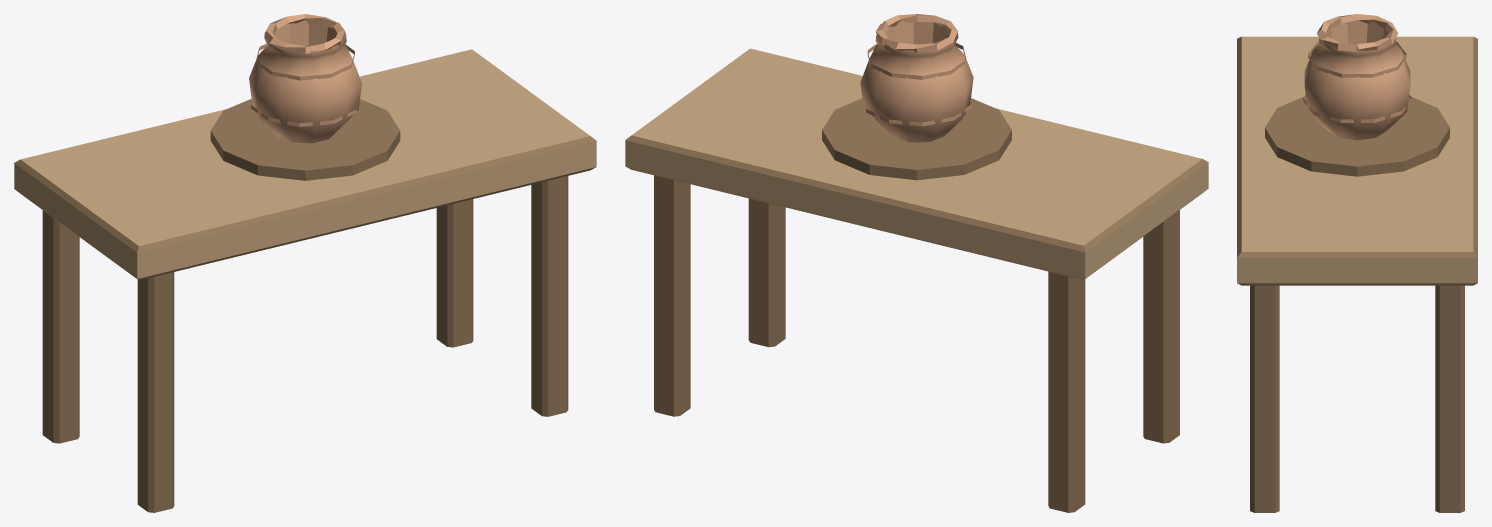
File: pottery_wheel_idle.glb
3 renders of one model, left to right at view 1: azimuth 30°, elevation 25°; view 2: azimuth 150°, elevation 25°; view 3: azimuth 270°, elevation 25°, orthographic. The views are drawn at different scales.
Parts seen in each view (by area): view 1: pottery_wheel_idle; view 2: pottery_wheel_idle; view 3: pottery_wheel_idle.
Part boxes in pixels (box(x1,y1,x2,y2)): pottery_wheel_idle: box(14, 14, 596, 512); pottery_wheel_idle: box(625, 14, 1208, 512); pottery_wheel_idle: box(1237, 14, 1477, 512).
Size of the model in its own units: 1.4 by 1.14 by 0.65.
